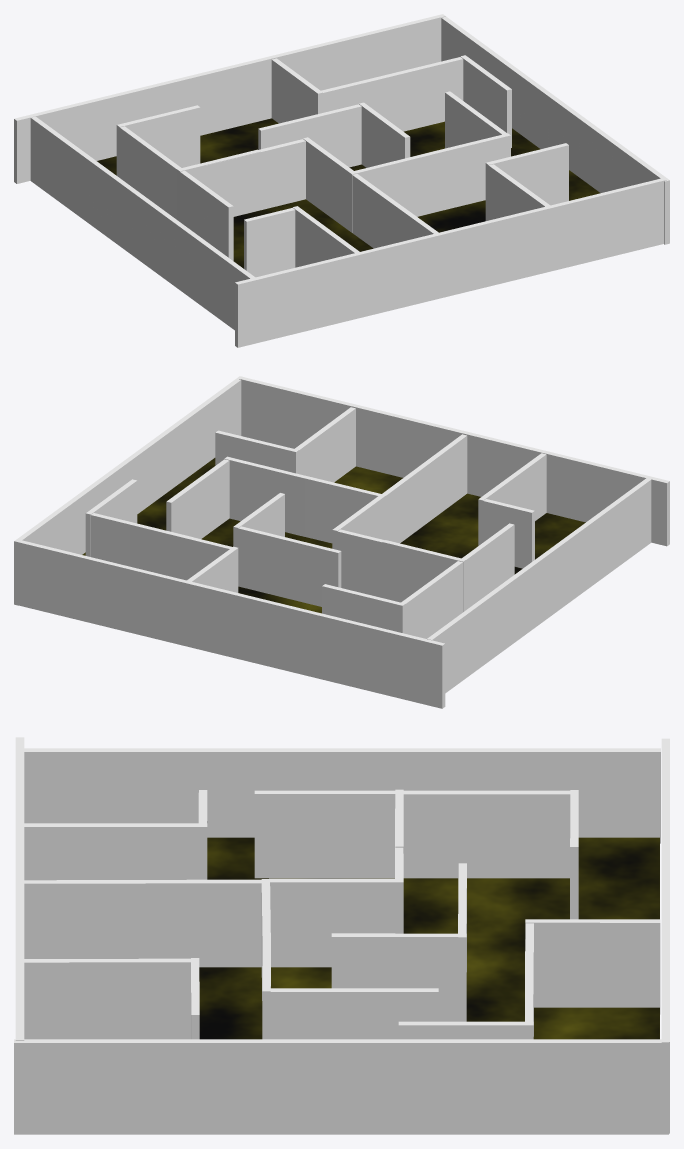
The model's file is world55.gltf.
3 renders of one model, top to bottom at view 1: azimuth 30°, elevation 25°; view 2: azimuth 150°, elevation 25°; view 3: azimuth 270°, elevation 25°, orthographic. The views are drawn at different scales.
Visible parts, largest first — view 1: back wall2, CSGBox3D310, CSGBox3D42, CSGBox3D510, floor2, CSGBox3D314, CSGBox3D312, CSGBox3D518, CSGBox3D38, CSGBox3D322, CSGBox3D36, CSGBox3D522 (+13 smaller); view 2: CSGBox3D310, back wall2, CSGBox3D42, CSGBox3D510, floor2, CSGBox3D38, CSGBox3D322, CSGBox3D518, CSGBox3D32, CSGBox3D318, CSGBox3D520, CSGBox3D522 (+13 smaller); view 3: CSGBox3D510, CSGBox3D42, floor2, CSGBox3D322, CSGBox3D36, CSGBox3D316, CSGBox3D320, CSGBox3D52, CSGBox3D54, CSGBox3D514, CSGBox3D58, CSGBox3D318 (+9 smaller).
Boxes of the visible parts, box(x1,y1,x2,y2) form: back wall2: box(235, 178, 666, 347); CSGBox3D310: box(14, 14, 445, 183); CSGBox3D42: box(30, 116, 256, 330); CSGBox3D510: box(441, 16, 669, 244); floor2: box(97, 118, 600, 268); CSGBox3D314: box(205, 139, 305, 216); CSGBox3D312: box(362, 57, 463, 131); CSGBox3D518: box(428, 133, 510, 212); CSGBox3D38: box(258, 104, 361, 167); CSGBox3D322: box(352, 174, 438, 248); CSGBox3D36: box(119, 126, 180, 219); CSGBox3D522: box(349, 153, 432, 232); CSGBox3D310: box(14, 539, 445, 708); back wall2: box(239, 376, 669, 546); CSGBox3D42: box(427, 477, 652, 693); CSGBox3D510: box(15, 376, 241, 605); floor2: box(82, 458, 585, 613); CSGBox3D38: box(238, 526, 341, 606); CSGBox3D322: box(382, 434, 467, 543); CSGBox3D518: box(224, 456, 307, 536); CSGBox3D32: box(130, 522, 232, 580); CSGBox3D318: box(166, 459, 229, 538); CSGBox3D520: box(382, 540, 465, 611); CSGBox3D522: box(305, 476, 386, 543); CSGBox3D510: box(14, 1039, 668, 1134); CSGBox3D42: box(20, 748, 660, 843); floor2: box(199, 837, 659, 1039); CSGBox3D322: box(24, 879, 261, 967); CSGBox3D36: box(403, 790, 570, 878); CSGBox3D316: box(24, 958, 190, 1039); CSGBox3D320: box(254, 790, 395, 878); CSGBox3D52: box(525, 919, 660, 1014); CSGBox3D54: box(24, 823, 207, 880); CSGBox3D514: box(269, 878, 403, 967); CSGBox3D58: box(331, 933, 466, 1021); CSGBox3D318: box(270, 988, 438, 1039).
Bounding box in the file's own units: 21.4 × 3.05 × 19.46.
Materials: 25 (1 with a texture image).
